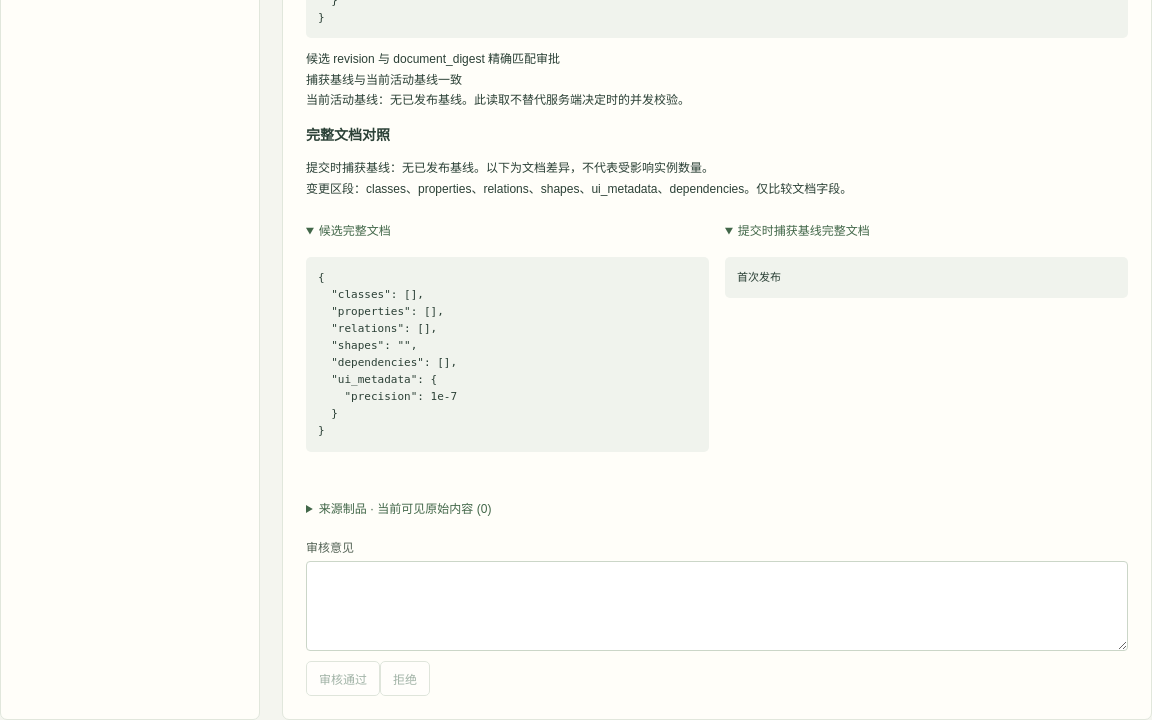
Test case: allows exact server-bound exponent metadata without JavaScript reserialization
This screenshot has width=1152, height=720.
(page scrolled)
Expected: the heading "完整文档对照" is shown, [306,127,390,143]
Type "Reviewed exact candidate" into the text box labelled "审核意见" at coordinates (717, 606), box [306,560,1128,650]
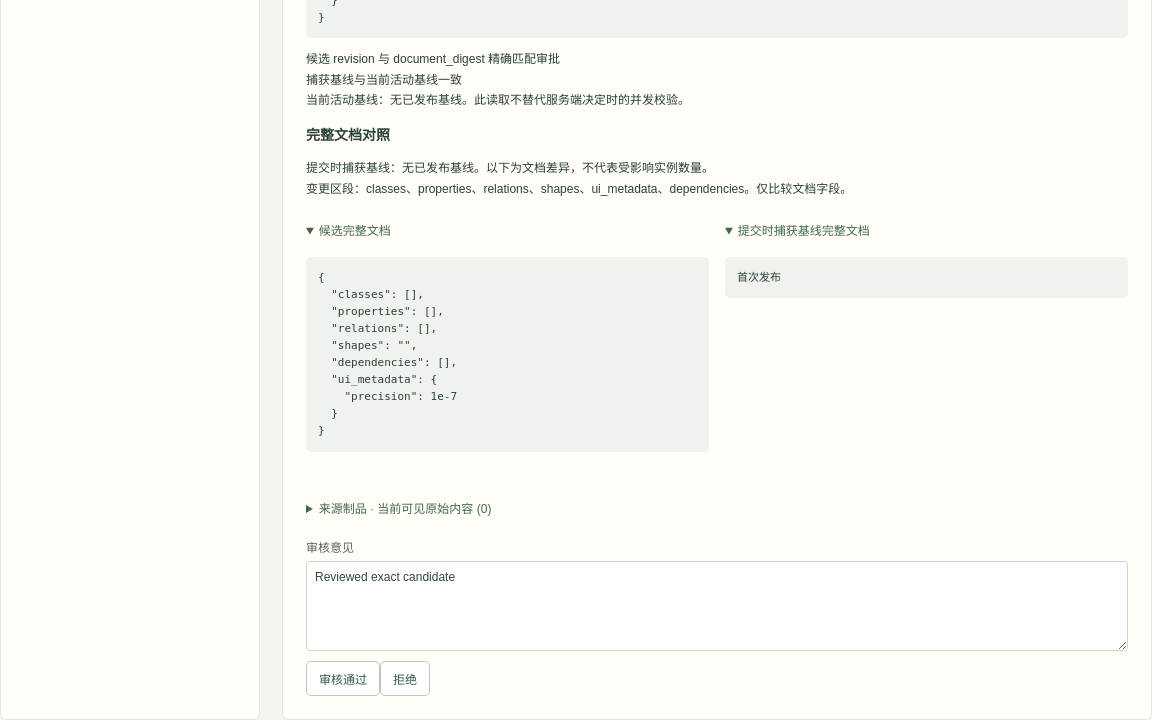
Now the button "审核通过" is enabled, box [306,660,380,696]
